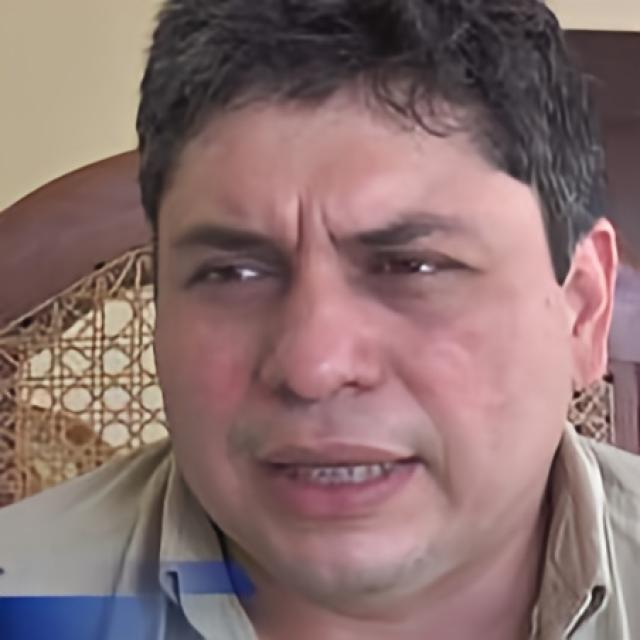anger: (152, 80, 560, 602)
